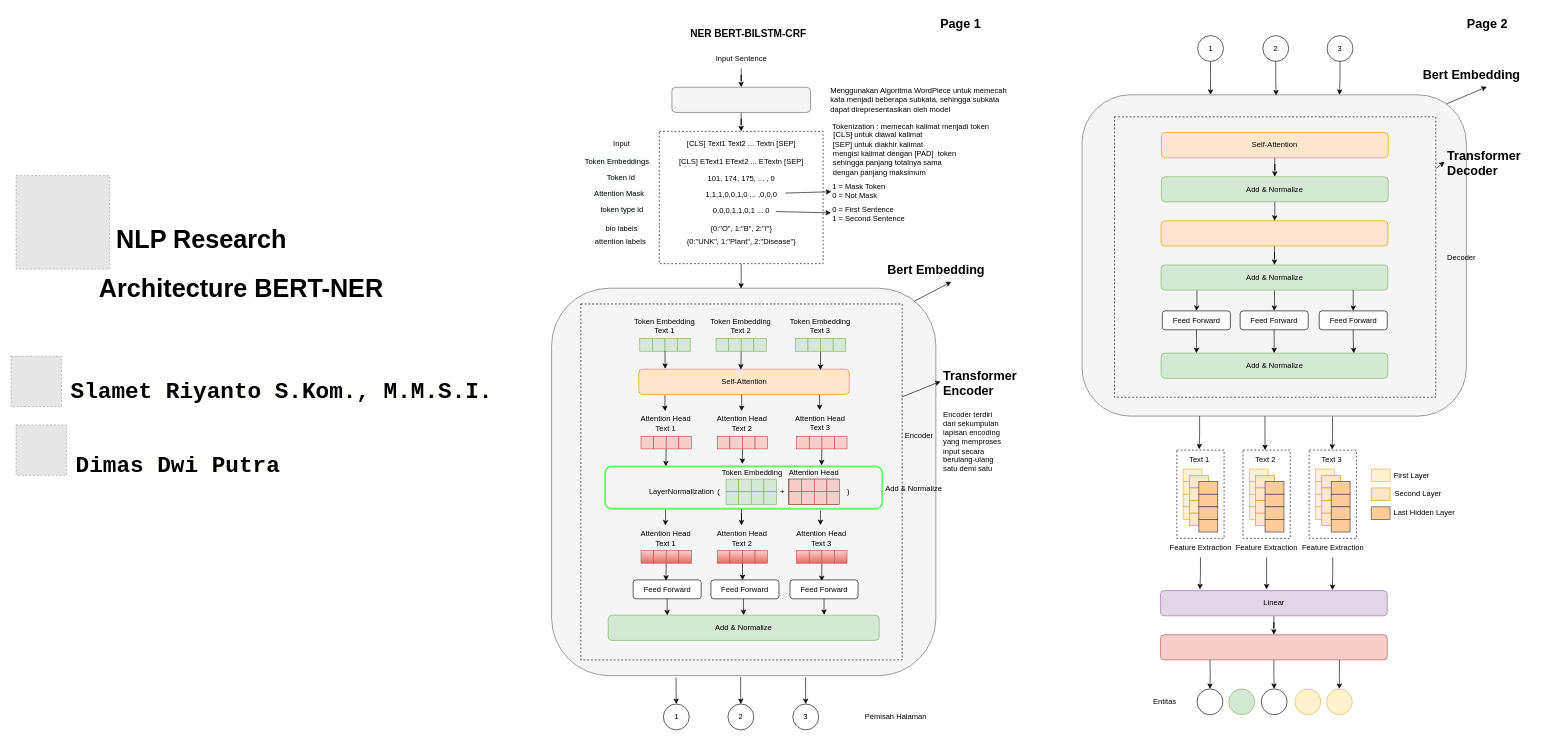
Some shapes in this 1545 by 741 pixel diagram are drawn without their labels. Grey dashed boxes stand in for pictures. Here are the shapes that lost their labels. From the top down, the box of each, then its label:
(671, 87, 810, 112): BERT Tokenizer
(1160, 220, 1388, 246): Encoder-Decoder Attention
(1160, 634, 1387, 660): Softmax
